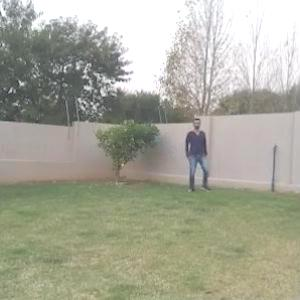follow: (188, 116, 206, 193)
